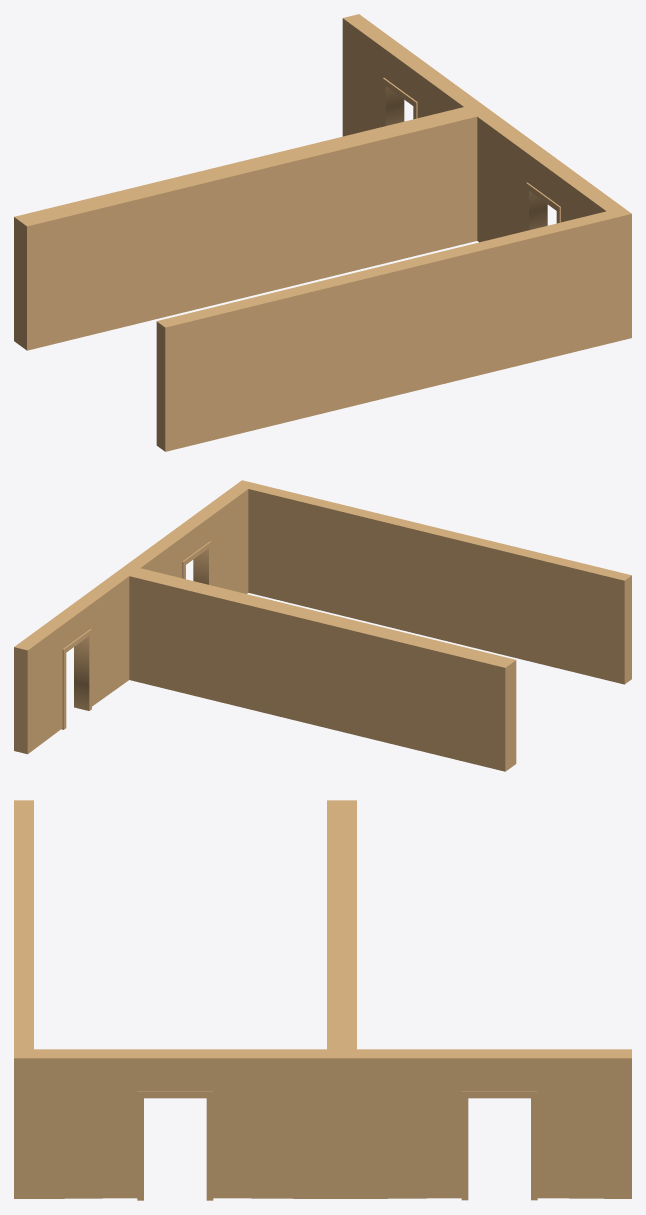
File: QuartoEInfLow.fbx
3 views of the same model, one above another, from view 1: azimuth 30°, elevation 25°; view 2: azimuth 150°, elevation 25°; view 3: azimuth 270°, elevation 25° (orthographic). The views are drawn at different scales.
Parts seen in each view (by area): view 1: QuartoEInf.003; view 2: QuartoEInf.003; view 3: QuartoEInf.003.
Part boxes in pixels (<box>): QuartoEInf.003: <box>14,14,631,451</box>; QuartoEInf.003: <box>14,480,631,771</box>; QuartoEInf.003: <box>14,800,631,1200</box>.
Bounding box in the file's own units: 1562 × 400 × 1580.
